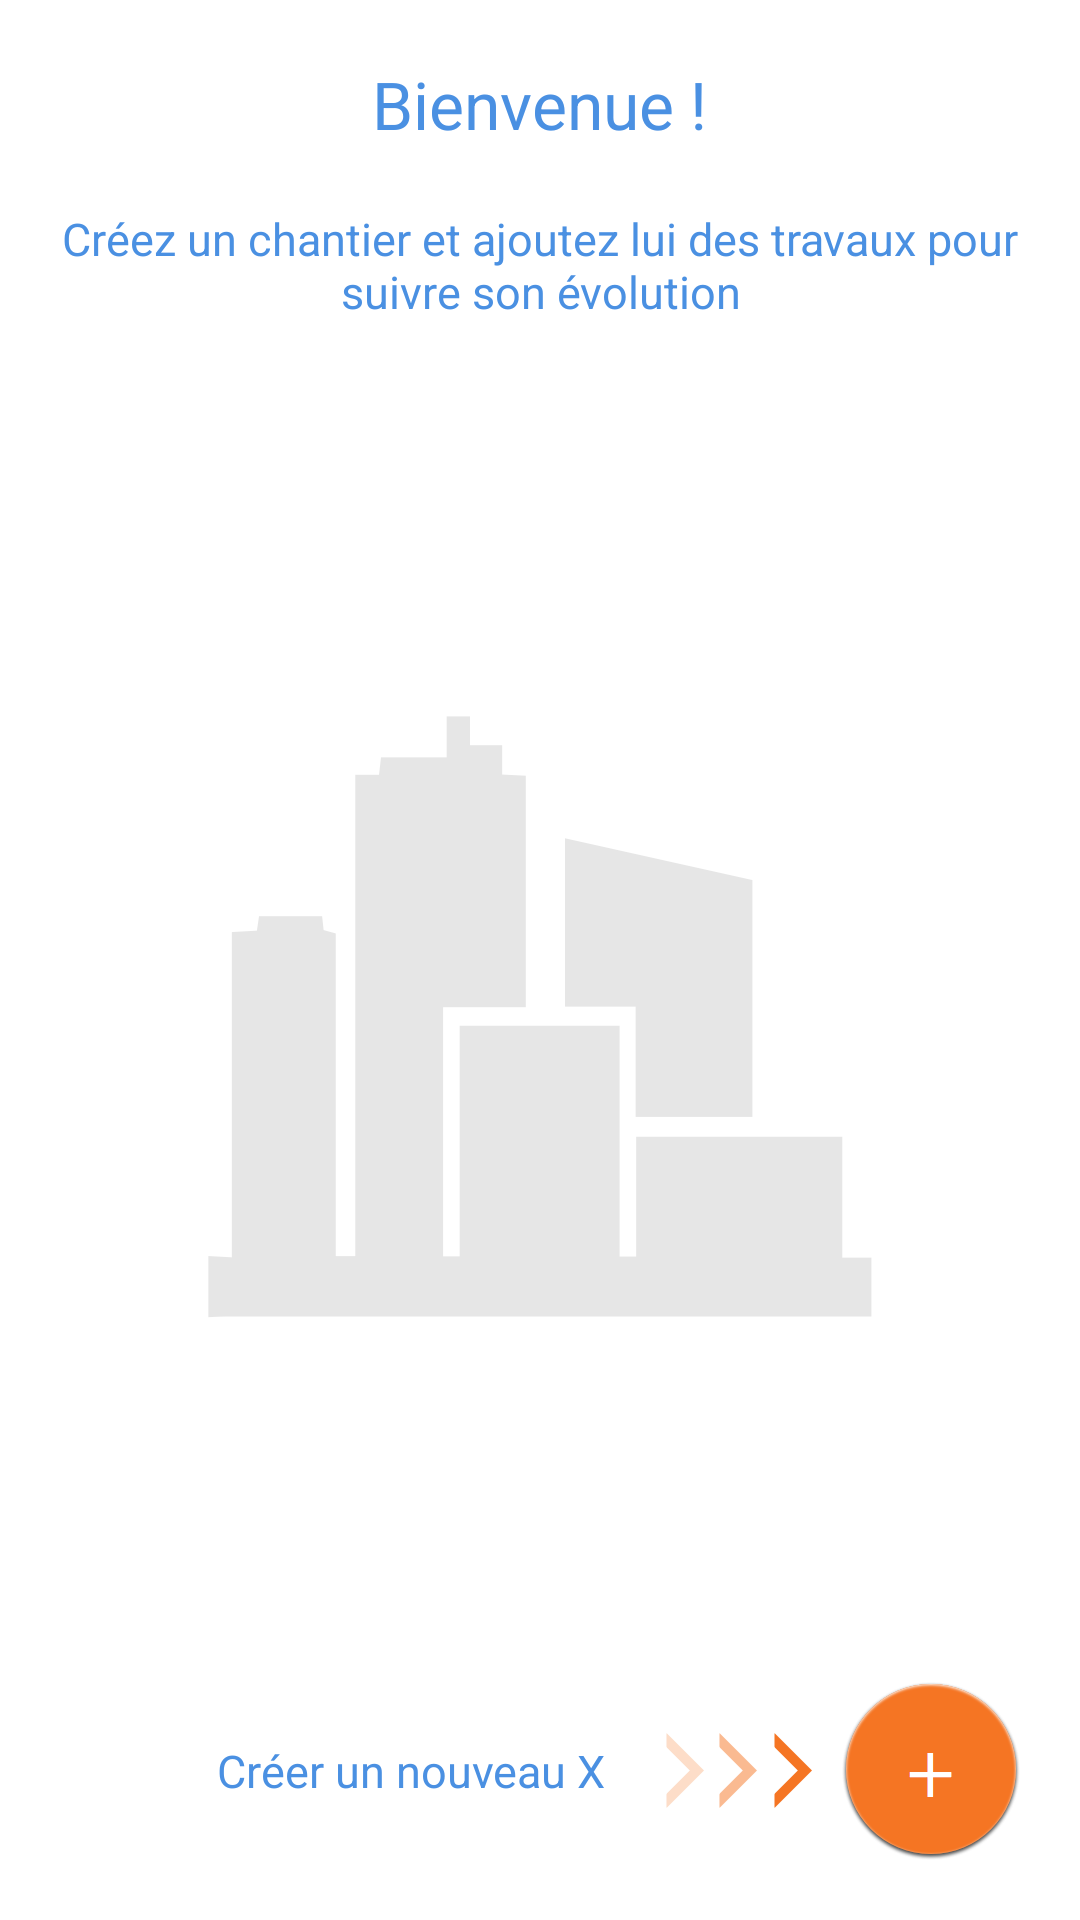

Icons on this 1080px×1920px Android screen, each with its box as (x1,y1,x2,y2):
arrows: (666,1733,812,1808)
